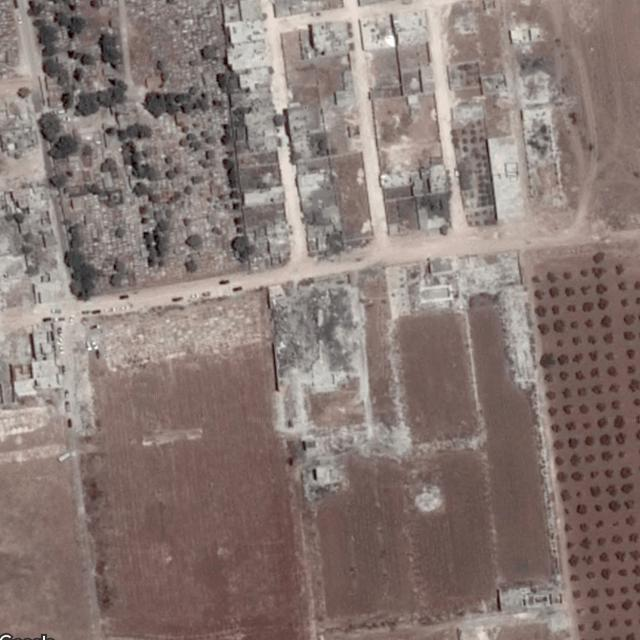damaged_building: (269, 277, 365, 433), (455, 252, 517, 307)
